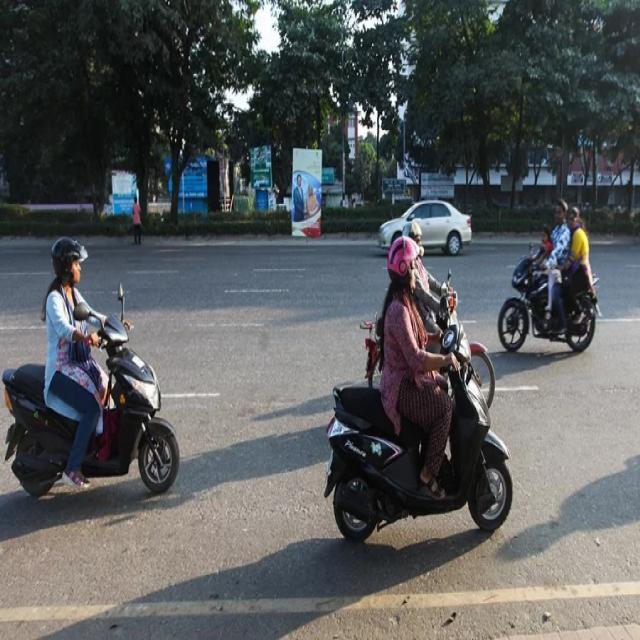bike: (331, 345, 519, 544), (8, 319, 181, 491), (504, 268, 602, 371)
car: (364, 188, 484, 253)
